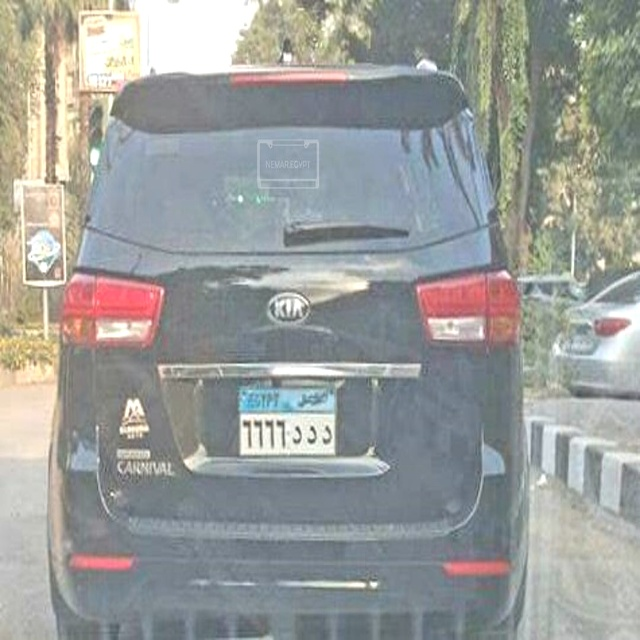License Plate: (233, 373, 341, 463)
